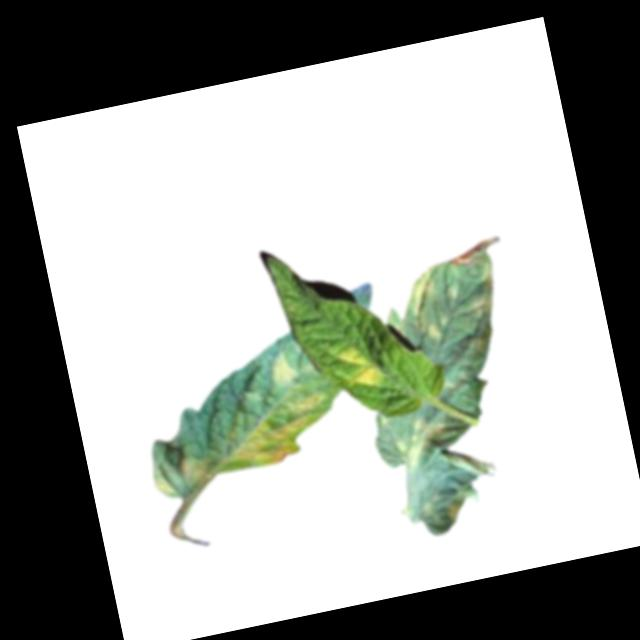Leaf_Mold: (217, 383, 340, 473), (391, 414, 450, 467), (335, 338, 385, 392), (401, 264, 443, 326), (177, 447, 217, 488), (267, 343, 301, 386), (469, 292, 502, 319), (150, 469, 175, 498), (428, 320, 446, 339)
